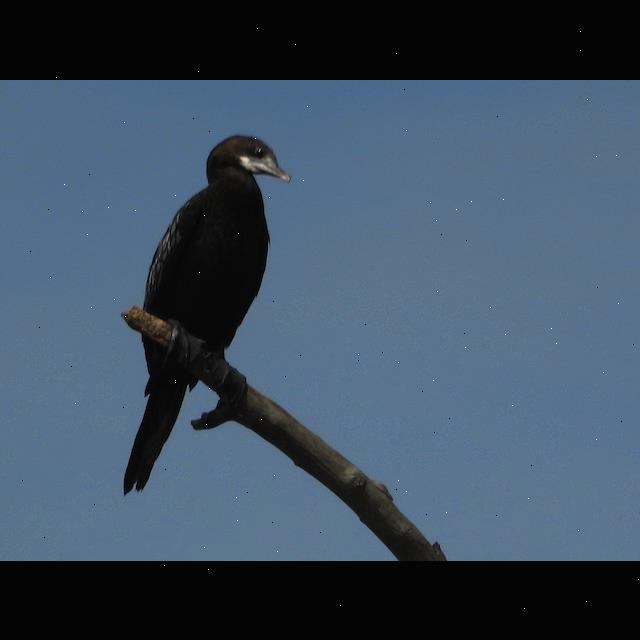cormorant: (116, 132, 294, 492)
